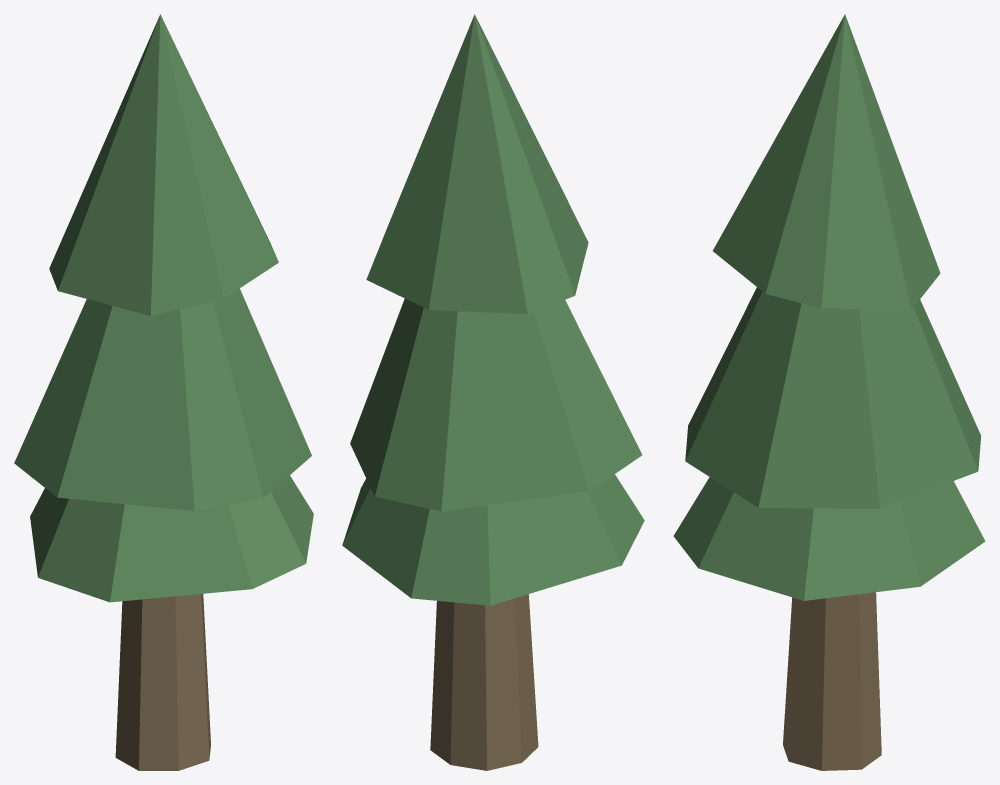
Rendered from Tree2.011.fbx.
3 views of the same model, side by side, from view 1: azimuth 30°, elevation 25°; view 2: azimuth 150°, elevation 25°; view 3: azimuth 270°, elevation 25° (orthographic).
Parts seen in each view (by area): view 1: Tree2.011; view 2: Tree2.011; view 3: Tree2.011.
Part boxes in pixels (x1,y1,x2,y2): Tree2.011: [14, 14, 313, 770]; Tree2.011: [342, 14, 644, 770]; Tree2.011: [673, 14, 985, 770].
Bounding box in the file's own units: 158 × 413 × 158.
